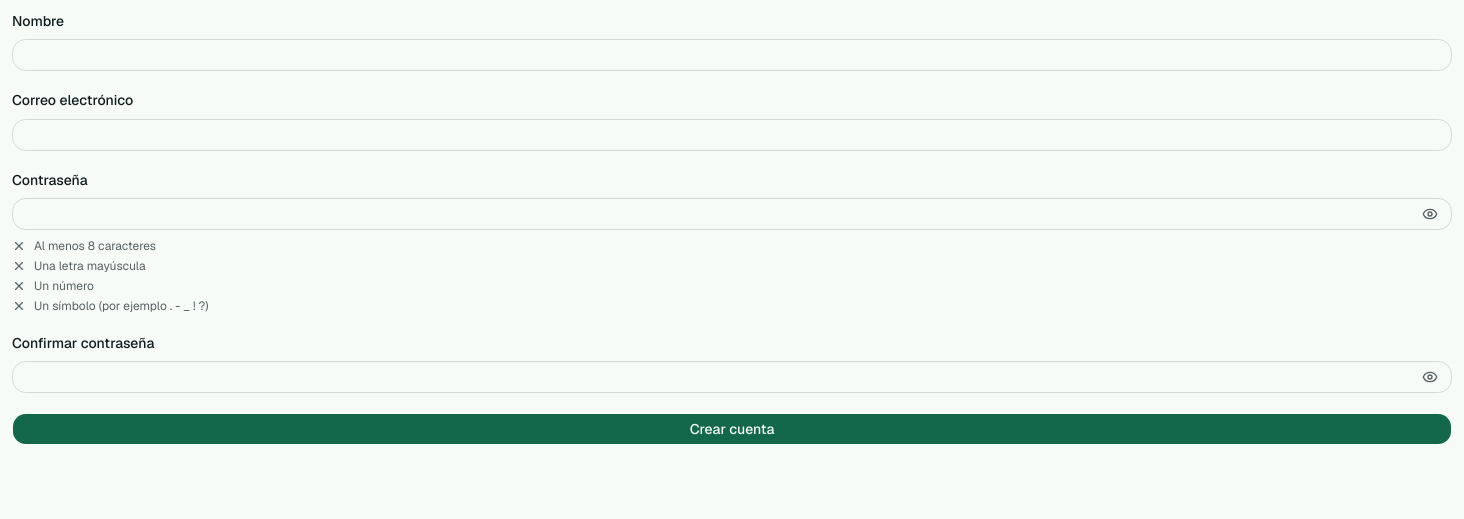
it: SignupForm › shows the duplicate-email error and KEEPS what the user typed on 409
Type "Ana Pérez" into the field labelled "Nombre" at (732, 55), box [12, 39, 1452, 71]
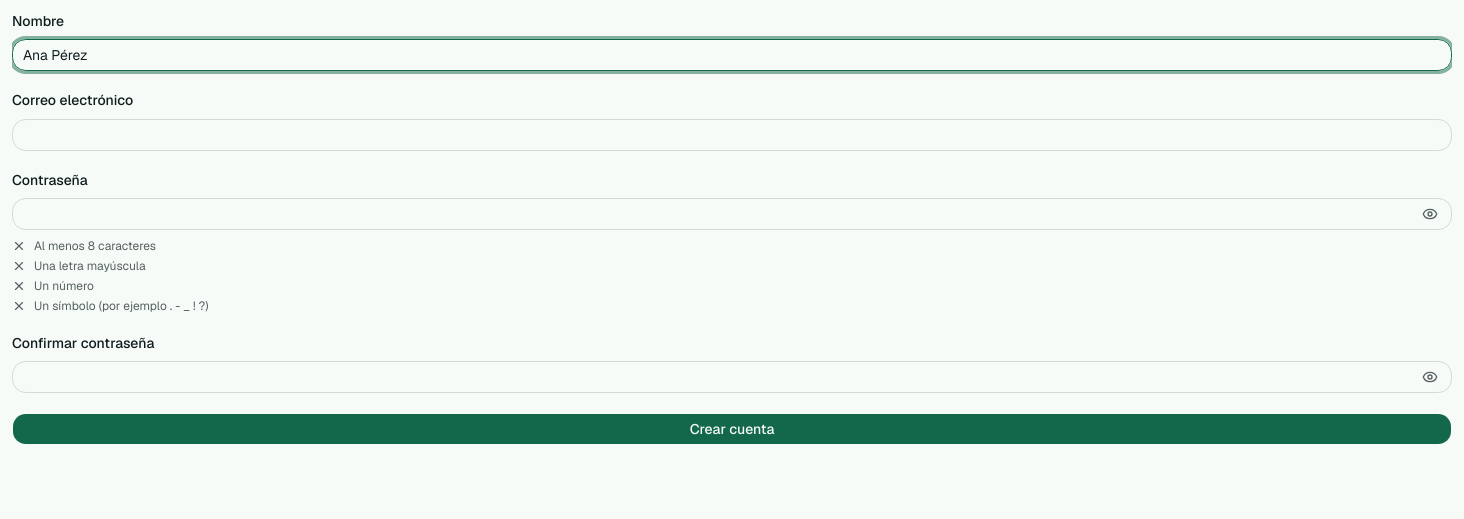
Type "ana@example.com" into the field labelled "Correo electrónico" at (732, 134), box [12, 118, 1452, 150]
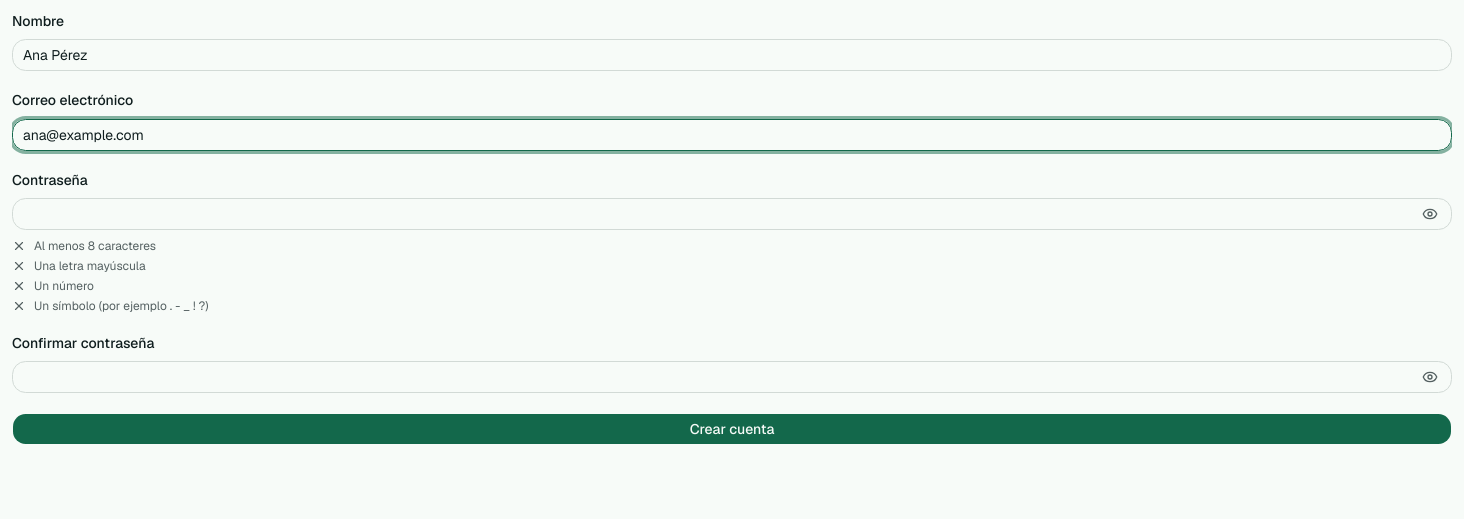
Type "SecurePass123!" into the password field labelled "Contraseña" at (732, 214), box [12, 198, 1452, 230]
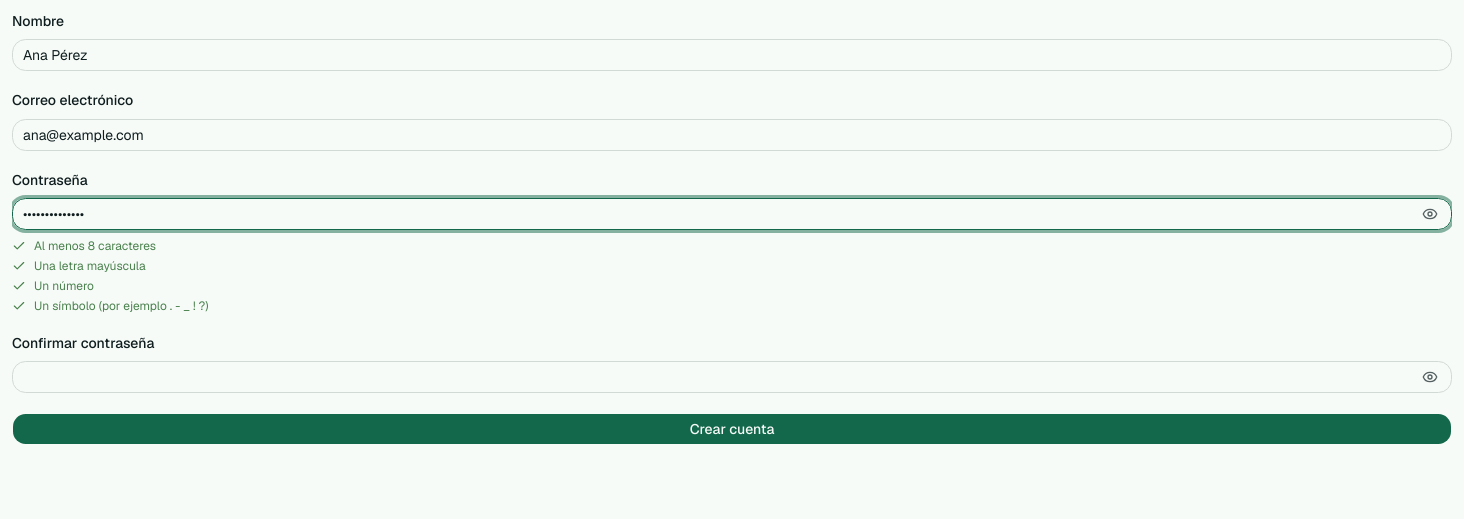
Type "SecurePass123!" into the password field labelled "Confirmar contraseña" at (732, 377), box [12, 361, 1452, 393]
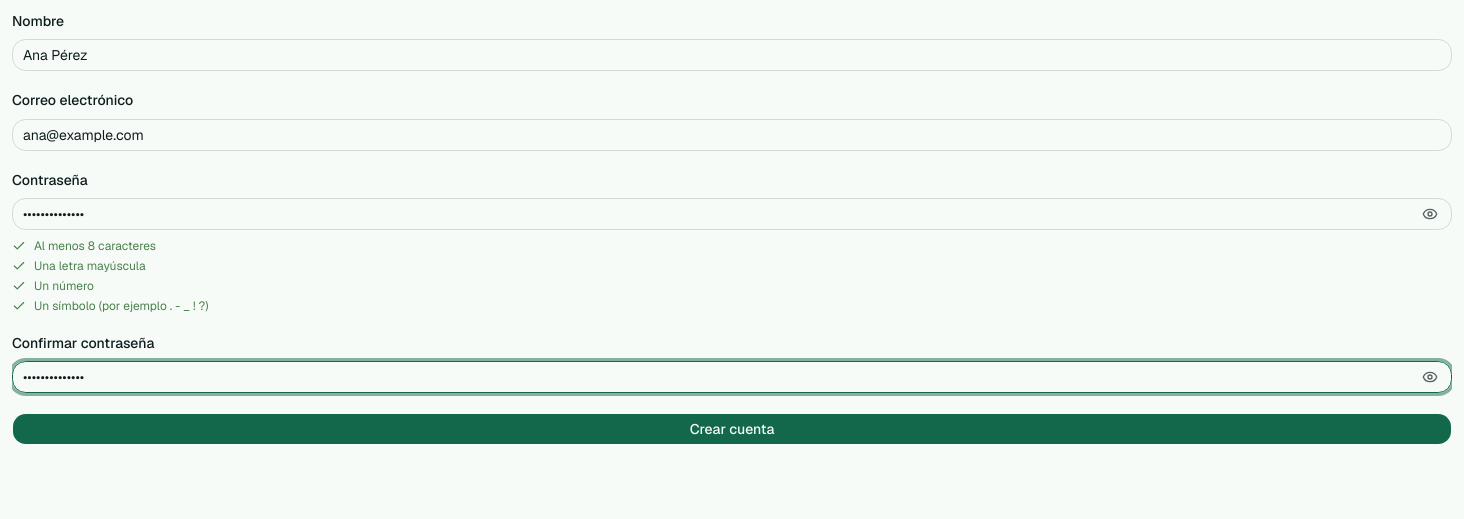
Click the button "Crear cuenta" at (732, 429), box [12, 413, 1452, 445]
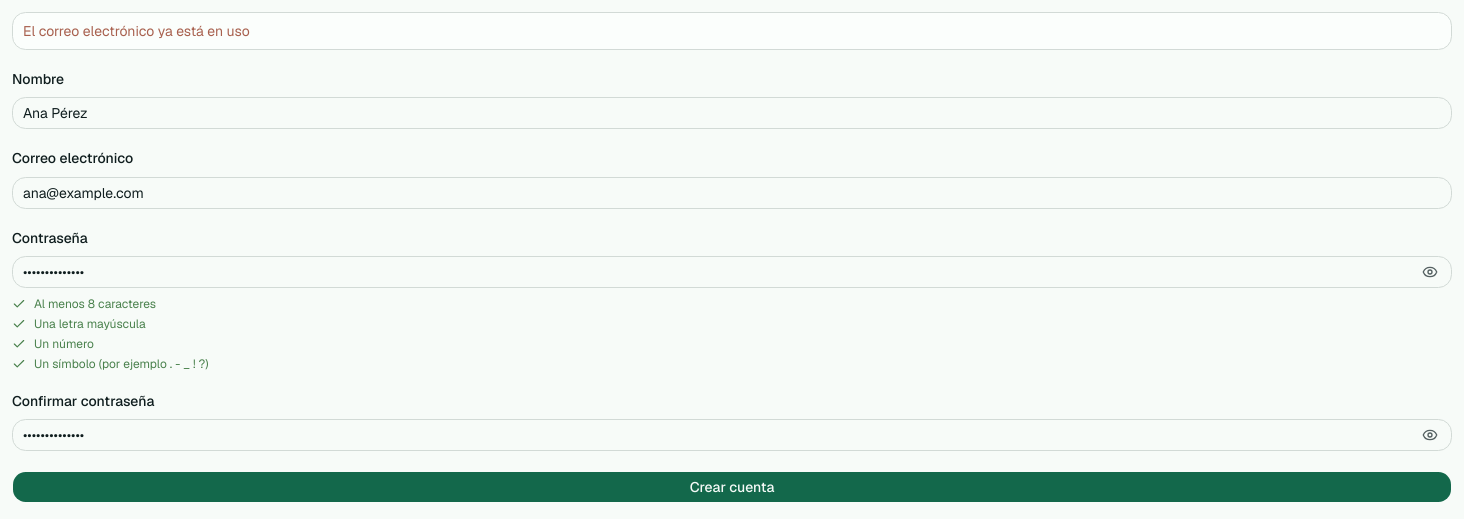
Expected: the text "El correo electrónico ya está en uso" is shown, [23, 22, 250, 40]
